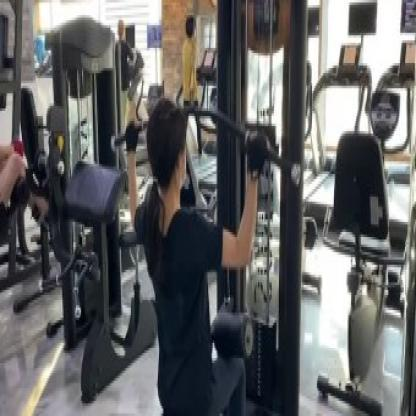Lat Pull Down: (103, 0, 312, 416)
